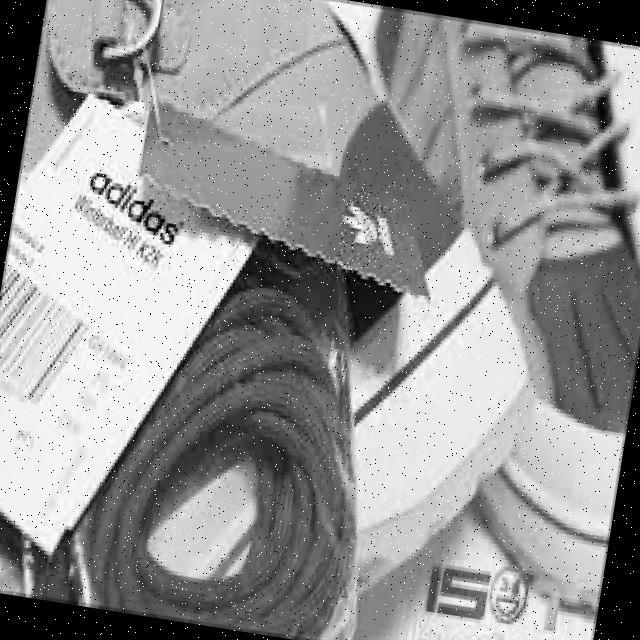Adidas: (332, 181, 390, 278)
